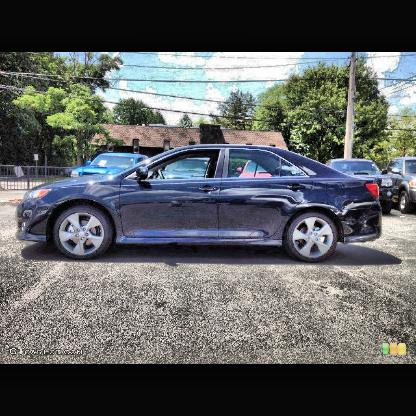Toyota Camry Sedan 2012: (17, 144, 386, 263)
